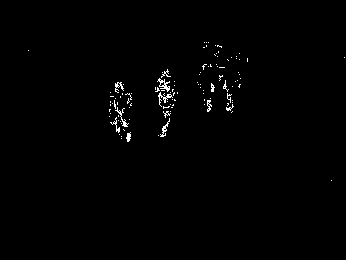person: (153, 69, 176, 139), (108, 81, 133, 144)
